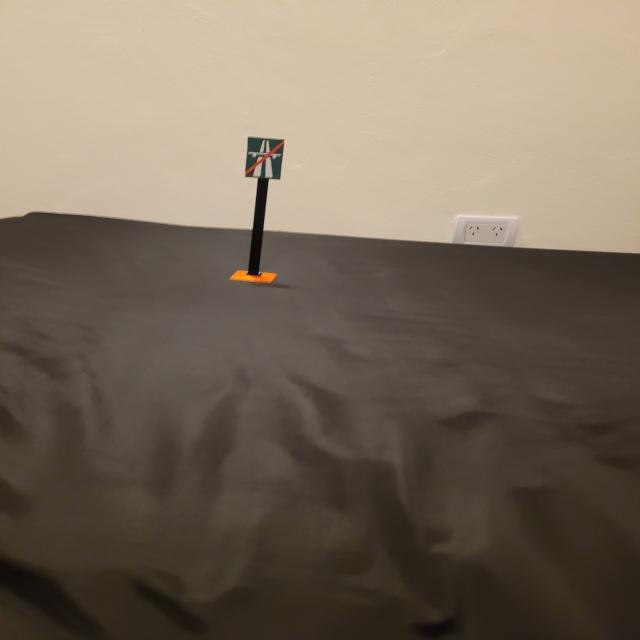highway_exit: (245, 136, 284, 181)
